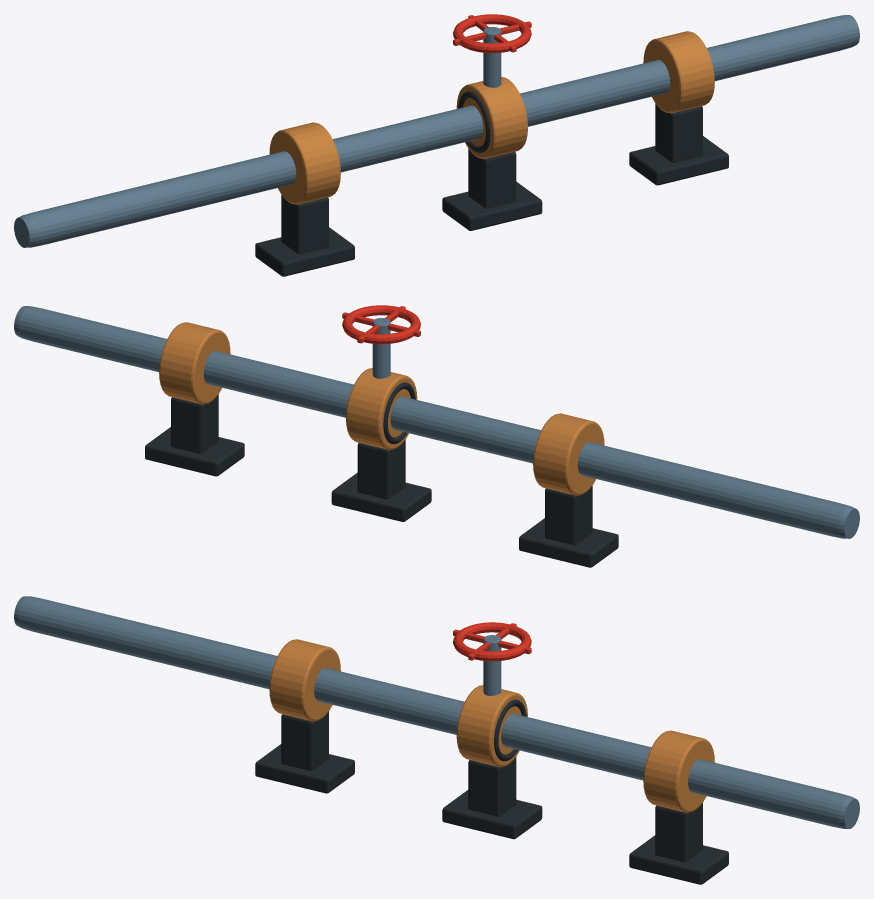
The picture shows the model from 3 angles, top to bottom: view 1: azimuth 30°, elevation 25°; view 2: azimuth 150°, elevation 25°; view 3: azimuth 330°, elevation 25°; orthographic projection.
Visible parts, largest first — view 1: EXPORT_layout_a_pipe_segment_+0.30, EXPORT_layout_a_valve_body.002, EXPORT_layout_a_valve_body.001, EXPORT_layout_a_valve_body, EXPORT_layout_a_valve_floor_bracket, EXPORT_layout_a_valve_floor_bracket.002, EXPORT_layout_a_valve_floor_bracket.001, EXPORT_layout_a_valve_support_pedestal, EXPORT_layout_a_valve_support_pedestal.001, EXPORT_layout_a_valve_support_pedestal.002, EXPORT_layout_a_valve_handwheel, EXPORT_layout_a_valve_stem (+1 smaller); view 2: EXPORT_layout_a_pipe_segment_+0.30, EXPORT_layout_a_valve_body.002, EXPORT_layout_a_valve_body.001, EXPORT_layout_a_valve_body, EXPORT_layout_a_valve_floor_bracket, EXPORT_layout_a_valve_floor_bracket.002, EXPORT_layout_a_valve_floor_bracket.001, EXPORT_layout_a_valve_support_pedestal, EXPORT_layout_a_valve_support_pedestal.001, EXPORT_layout_a_valve_support_pedestal.002, EXPORT_layout_a_valve_handwheel, EXPORT_layout_a_valve_stem (+1 smaller); view 3: EXPORT_layout_a_pipe_segment_+0.30, EXPORT_layout_a_valve_body.002, EXPORT_layout_a_valve_body.001, EXPORT_layout_a_valve_body, EXPORT_layout_a_valve_floor_bracket, EXPORT_layout_a_valve_floor_bracket.001, EXPORT_layout_a_valve_floor_bracket.002, EXPORT_layout_a_valve_support_pedestal, EXPORT_layout_a_valve_support_pedestal.001, EXPORT_layout_a_valve_support_pedestal.002, EXPORT_layout_a_valve_handwheel, EXPORT_layout_a_valve_stem (+1 smaller).
Part boxes in pixels (box(x1,y1,x2,y2)): EXPORT_layout_a_pipe_segment_+0.30: box(14, 15, 859, 247); EXPORT_layout_a_valve_body.002: box(269, 122, 340, 204); EXPORT_layout_a_valve_body.001: box(643, 31, 714, 113); EXPORT_layout_a_valve_body: box(456, 77, 527, 159); EXPORT_layout_a_valve_floor_bracket: box(442, 181, 542, 230); EXPORT_layout_a_valve_floor_bracket.002: box(255, 227, 354, 276); EXPORT_layout_a_valve_floor_bracket.001: box(629, 136, 728, 185); EXPORT_layout_a_valve_support_pedestal: box(468, 149, 516, 208); EXPORT_layout_a_valve_support_pedestal.001: box(655, 103, 702, 162); EXPORT_layout_a_valve_support_pedestal.002: box(281, 195, 328, 253); EXPORT_layout_a_valve_handwheel: box(453, 14, 531, 53); EXPORT_layout_a_valve_stem: box(483, 27, 501, 87); EXPORT_layout_a_pipe_segment_+0.30: box(14, 306, 859, 538); EXPORT_layout_a_valve_body.002: box(533, 413, 604, 495); EXPORT_layout_a_valve_body.001: box(159, 322, 230, 404); EXPORT_layout_a_valve_body: box(346, 368, 417, 450); EXPORT_layout_a_valve_floor_bracket: box(331, 472, 431, 521); EXPORT_layout_a_valve_floor_bracket.002: box(519, 518, 618, 567); EXPORT_layout_a_valve_floor_bracket.001: box(145, 427, 244, 476); EXPORT_layout_a_valve_support_pedestal: box(357, 440, 405, 499); EXPORT_layout_a_valve_support_pedestal.001: box(171, 394, 218, 453); EXPORT_layout_a_valve_support_pedestal.002: box(545, 486, 592, 544); EXPORT_layout_a_valve_handwheel: box(342, 305, 420, 344); EXPORT_layout_a_valve_stem: box(372, 318, 390, 378); EXPORT_layout_a_pipe_segment_+0.30: box(14, 596, 859, 828); EXPORT_layout_a_valve_body.002: box(269, 639, 340, 721); EXPORT_layout_a_valve_body.001: box(643, 730, 714, 812); EXPORT_layout_a_valve_body: box(456, 685, 527, 767); EXPORT_layout_a_valve_floor_bracket: box(442, 790, 542, 839); EXPORT_layout_a_valve_floor_bracket.001: box(629, 835, 728, 884); EXPORT_layout_a_valve_floor_bracket.002: box(255, 744, 354, 793); EXPORT_layout_a_valve_support_pedestal: box(468, 757, 516, 816); EXPORT_layout_a_valve_support_pedestal.001: box(655, 803, 702, 862); EXPORT_layout_a_valve_support_pedestal.002: box(281, 711, 328, 770); EXPORT_layout_a_valve_handwheel: box(453, 622, 531, 661); EXPORT_layout_a_valve_stem: box(483, 635, 501, 695).
Size of the model in its own units: 4.75 by 1 by 0.44.
